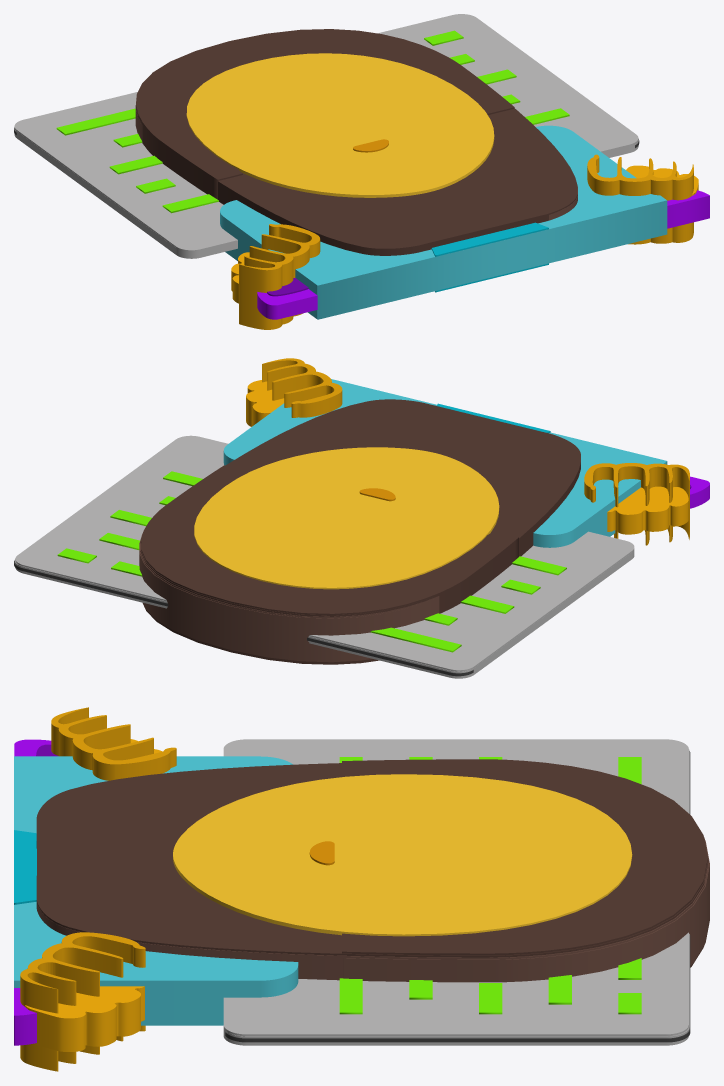
File: emoji_u1f469_200d_1f4bb.glb
3 views of the same model, one above another, from view 1: azimuth 30°, elevation 25°; view 2: azimuth 150°, elevation 25°; view 3: azimuth 270°, elevation 25° (orthographic). The views are drawn at different scales.
Parts seen in each view (by area): view 1: emoji_u1f469_200d_1f4bb; view 2: emoji_u1f469_200d_1f4bb; view 3: emoji_u1f469_200d_1f4bb.
Part boxes in pixels (x1=…): emoji_u1f469_200d_1f4bb: x1=14, y1=14, x2=709, y2=329; emoji_u1f469_200d_1f4bb: x1=14, y1=358, x2=709, y2=678; emoji_u1f469_200d_1f4bb: x1=14, y1=707, x2=709, y2=1071.
Bounding box in the file's own units: 0.0339 × 0.0044 × 0.0337.
